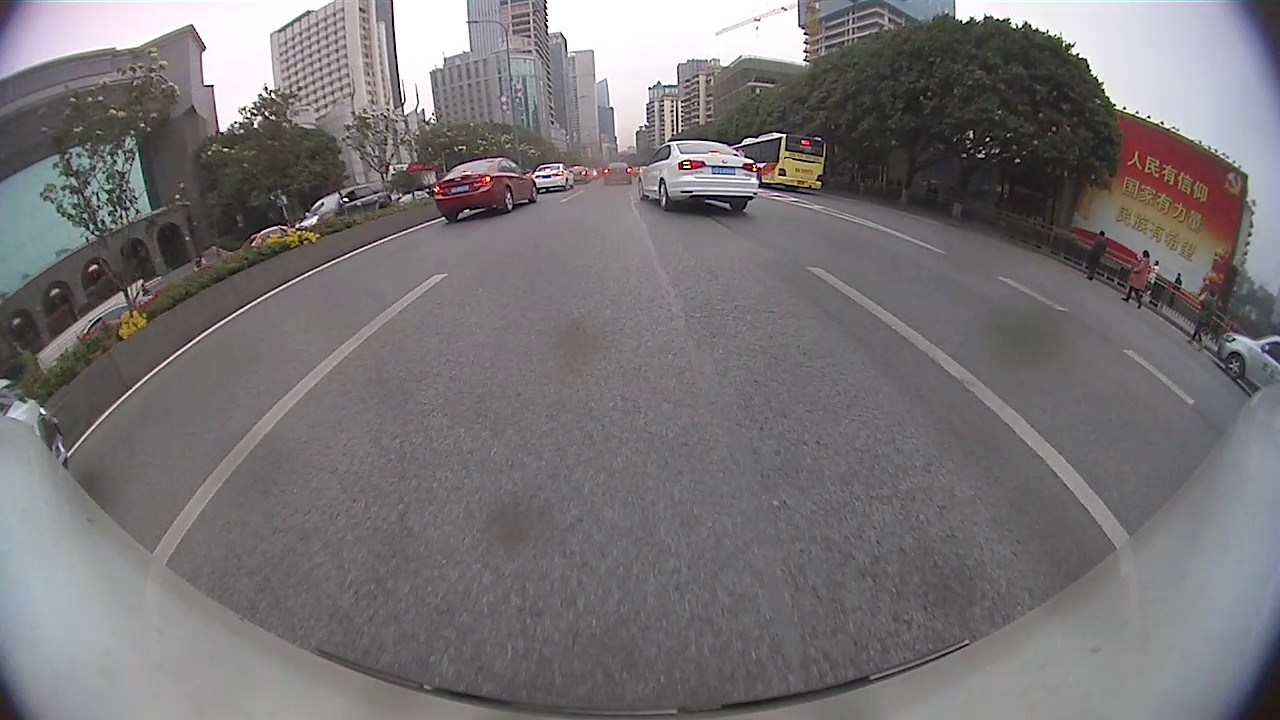bus: (731, 131, 827, 192)
car: (638, 139, 759, 216), (1, 374, 70, 471), (435, 157, 535, 223), (1215, 331, 1278, 389), (305, 184, 387, 224), (532, 162, 573, 195), (603, 162, 635, 188), (570, 164, 593, 187)
front: (1234, 346, 1247, 380), (528, 182, 537, 204)
person: (1199, 285, 1214, 354), (1135, 247, 1148, 310), (1092, 229, 1105, 280)
rear: (502, 187, 515, 213), (659, 180, 669, 210)
